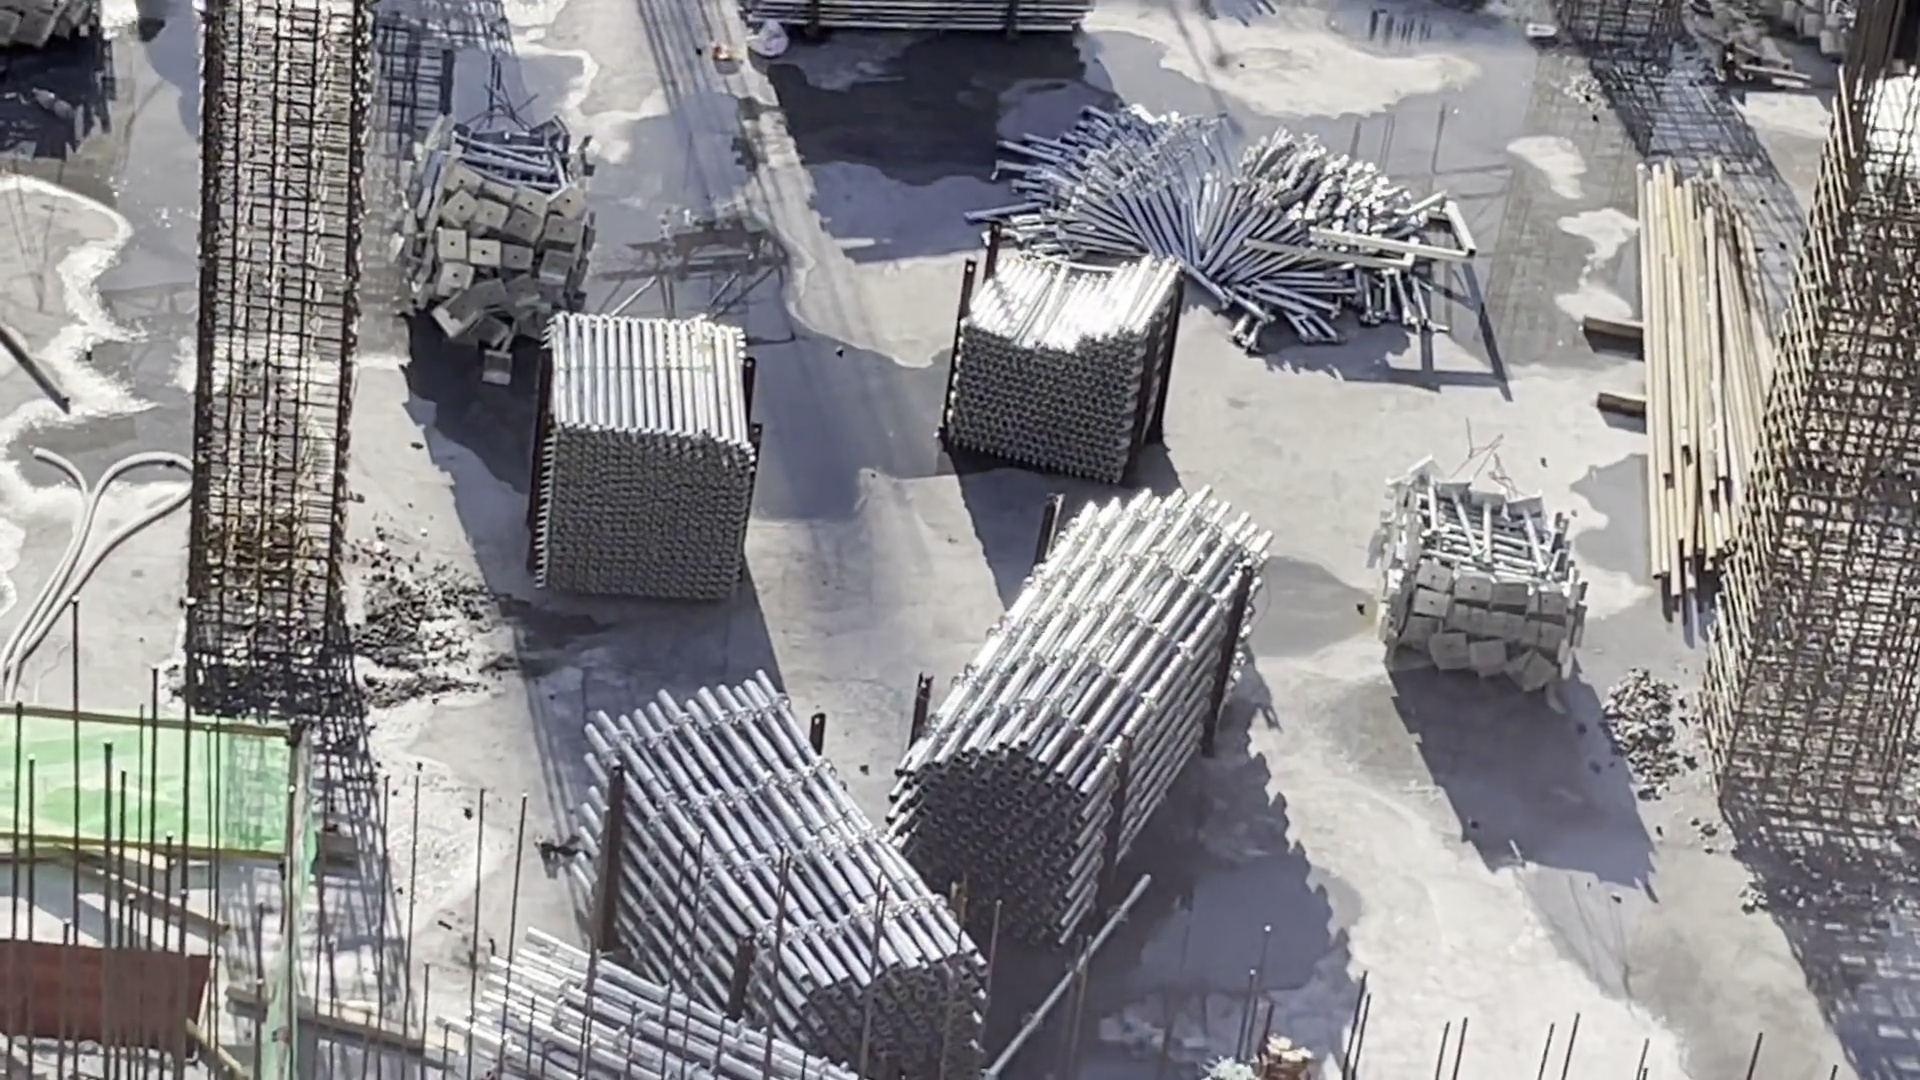scaffold: (567, 694, 988, 1058), (886, 491, 1240, 902), (1007, 90, 1425, 327), (527, 309, 752, 608), (938, 251, 1200, 488), (462, 918, 843, 1080), (1367, 452, 1610, 676), (407, 117, 580, 360), (733, 1, 1072, 54)
